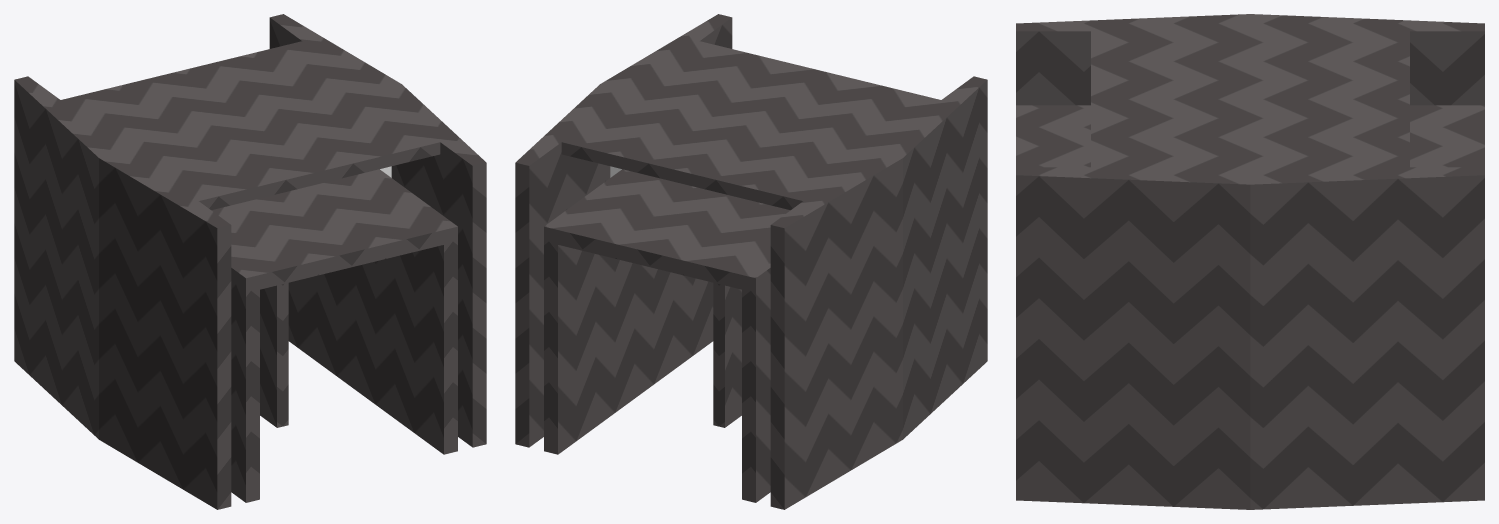
The model's file is Obstacle1.glb.
3 renders of one model, left to right at view 1: azimuth 30°, elevation 25°; view 2: azimuth 150°, elevation 25°; view 3: azimuth 270°, elevation 25°, orthographic. The views are drawn at different scales.
Parts seen in each view (by area): view 1: mergedBlocks(Clone); view 2: mergedBlocks(Clone); view 3: mergedBlocks(Clone).
Boxes of the visible parts, left/top/right/bottom form: mergedBlocks(Clone): left=14, top=14, right=486, bottom=509; mergedBlocks(Clone): left=515, top=14, right=987, bottom=509; mergedBlocks(Clone): left=1016, top=14, right=1484, bottom=509.
Size of the model in its own units: 1.12 by 1 by 1.31.
2 materials, 1 textured.
